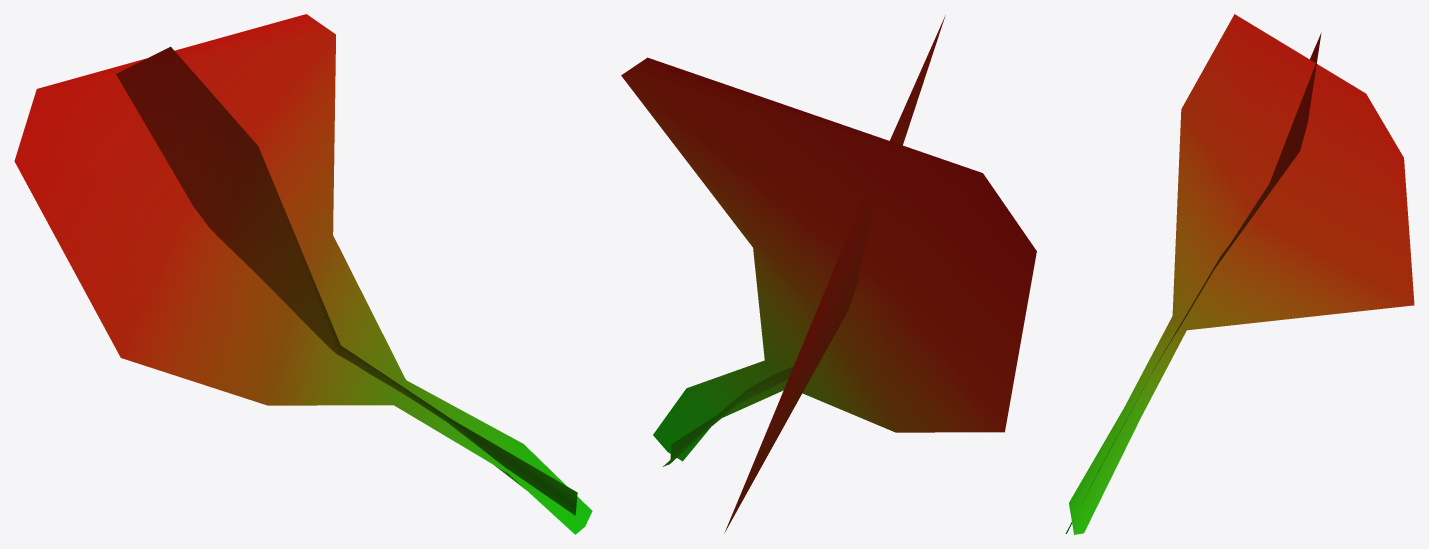
File: Downy Willow_LOD4_Var13_wknlfiuqx.fbx
The picture shows the model from 3 angles, left to right: view 1: azimuth 30°, elevation 25°; view 2: azimuth 150°, elevation 25°; view 3: azimuth 270°, elevation 25°; orthographic projection. The views are drawn at different scales.
Parts seen in each view (by area): view 1: _jiuy_Var13_LOD4; view 2: _jiuy_Var13_LOD4; view 3: _jiuy_Var13_LOD4.
Boxes of the visible parts, x1=… form: _jiuy_Var13_LOD4: x1=14, y1=14, x2=592, y2=534; _jiuy_Var13_LOD4: x1=621, y1=15, x2=1036, y2=533; _jiuy_Var13_LOD4: x1=1065, y1=14, x2=1414, y2=534.
Bounding box in the file's own units: 27.51 × 29.48 × 23.36.
